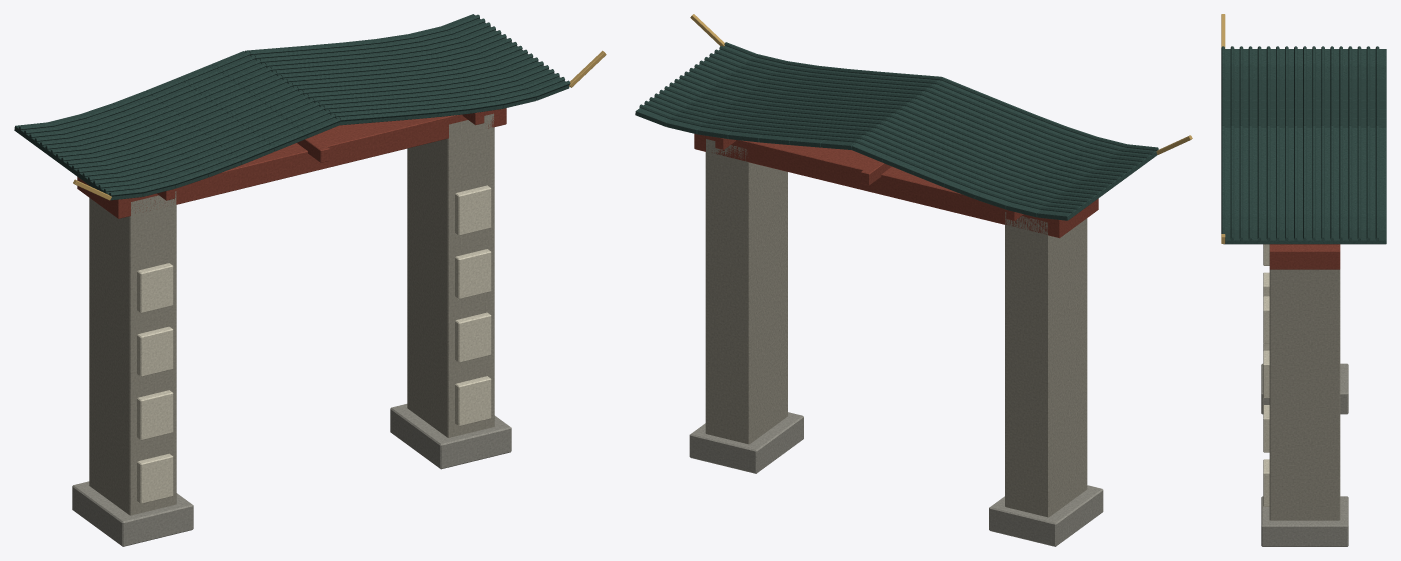
File: CHINGAT2_lod1.glb
3 views of the same model, side by side, from view 1: azimuth 30°, elevation 25°; view 2: azimuth 150°, elevation 25°; view 3: azimuth 270°, elevation 25° (orthographic). The views are drawn at different scales.
Parts seen in each view (by area): view 1: CHINGAT2_LOD1; view 2: CHINGAT2_LOD1; view 3: CHINGAT2_LOD1.
Boxes of the visible parts, box(x1,y1,x2,y2) form: CHINGAT2_LOD1: box(14, 14, 606, 546); CHINGAT2_LOD1: box(635, 14, 1192, 546); CHINGAT2_LOD1: box(1221, 14, 1386, 546).
Bounding box in the file's own units: 9.63 × 6.94 × 3.04.
Materials: 6 (5 with a texture image).
